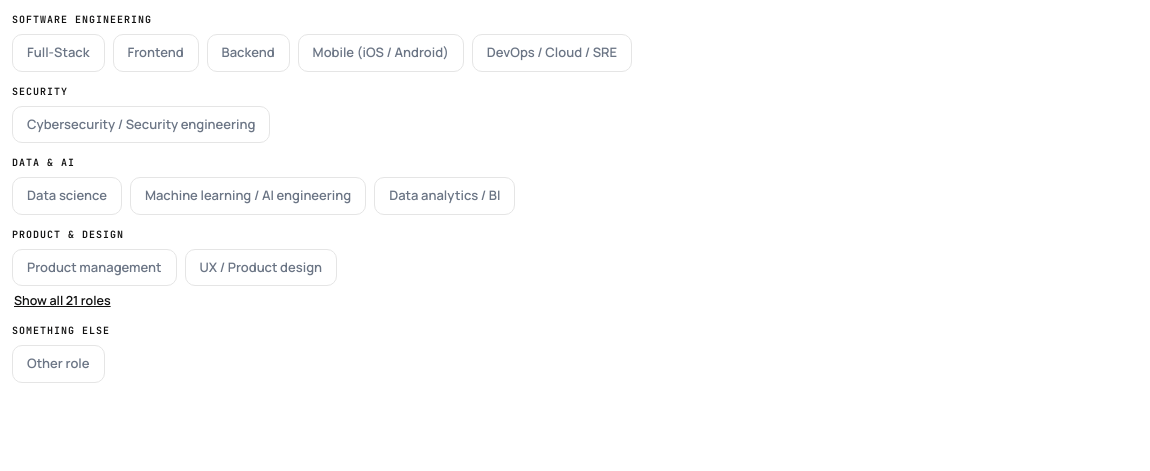
Test: RolePicker › shows the common roles first and reveals the rest on request
Expected: the button "Full-Stack" is shown, [12, 34, 104, 72]
Expected: the text "Game development" is not shown
Click the button "Show all 21 roles".
click(62, 301)  # box [12, 292, 113, 311]
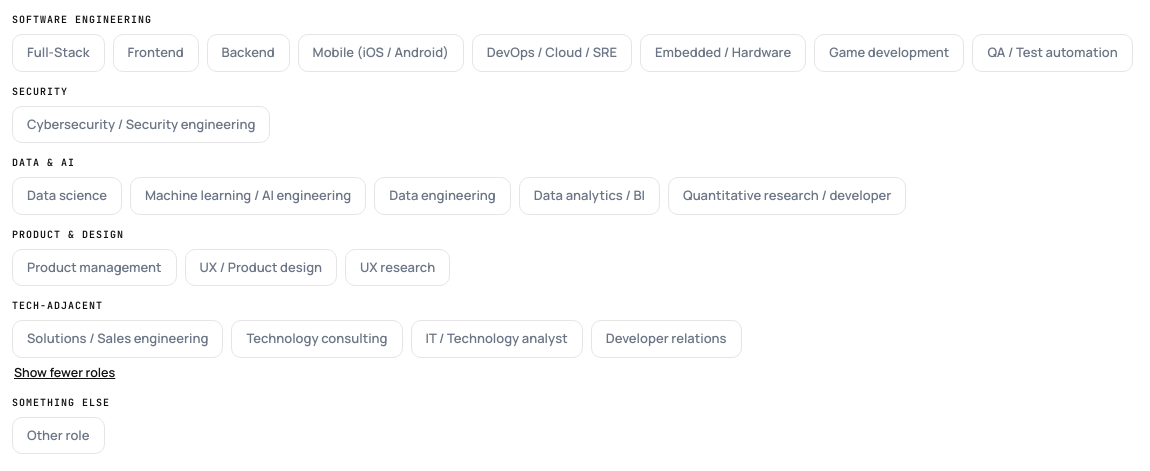
Expected: the button "Game development" is shown, [814, 34, 964, 72]
Expected: the button "Developer relations" is shown, [591, 320, 742, 358]
Expected: the button "Show fewer roles" is shown, [12, 364, 117, 382]
